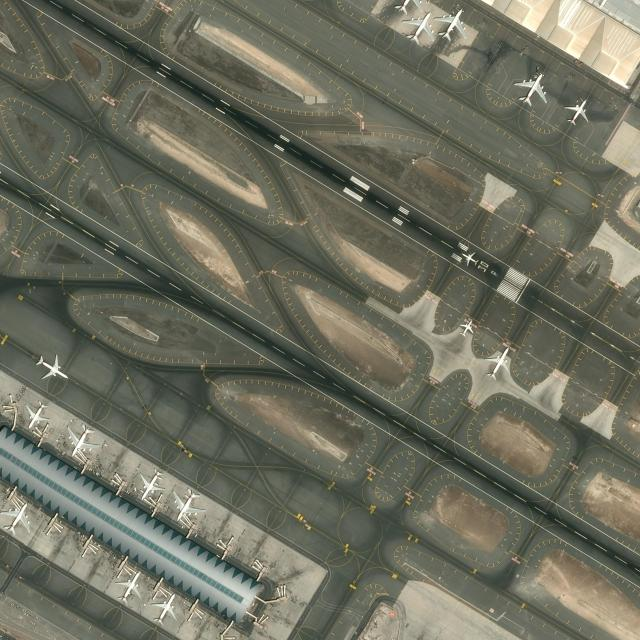1: (390, 0, 420, 17)
aircraft: (512, 67, 548, 109), (432, 4, 467, 42), (0, 499, 32, 540), (64, 422, 100, 458), (170, 485, 205, 522), (401, 7, 434, 46), (482, 344, 512, 382), (32, 350, 70, 380), (135, 466, 165, 502), (114, 568, 142, 604), (149, 590, 178, 624), (23, 396, 51, 429), (562, 95, 590, 126), (458, 248, 479, 268), (457, 316, 474, 336)
